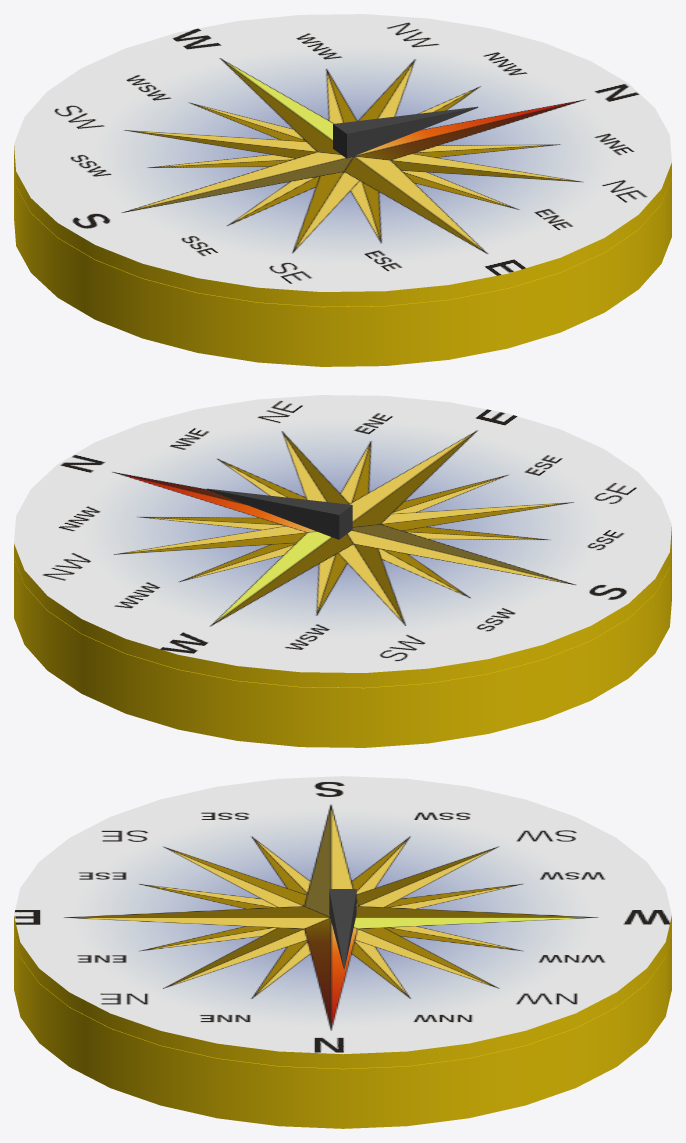
Rendered from compass.glb.
3 views of the same model, one above another, from view 1: azimuth 30°, elevation 25°; view 2: azimuth 150°, elevation 25°; view 3: azimuth 270°, elevation 25° (orthographic).
Parts seen in each view (by area): view 1: CompassPart, Body, Arrow; view 2: CompassPart, Body, Arrow; view 3: CompassPart, Body, Arrow.
Boxes of the visible parts, left/top/right/bottom form: CompassPart: left=14, top=14, right=671, bottom=306; Body: left=14, top=161, right=671, bottom=366; Arrow: left=333, top=106, right=478, bottom=158; CompassPart: left=14, top=395, right=671, bottom=687; Body: left=14, top=542, right=671, bottom=747; Arrow: left=206, top=488, right=352, bottom=539; CompassPart: left=14, top=776, right=671, bottom=1068; Body: left=14, top=931, right=671, bottom=1128; Arrow: left=329, top=889, right=356, bottom=969.
Bounding box in the file's own units: 1.77 × 0.2953 × 1.77.
3 materials, 1 textured.
